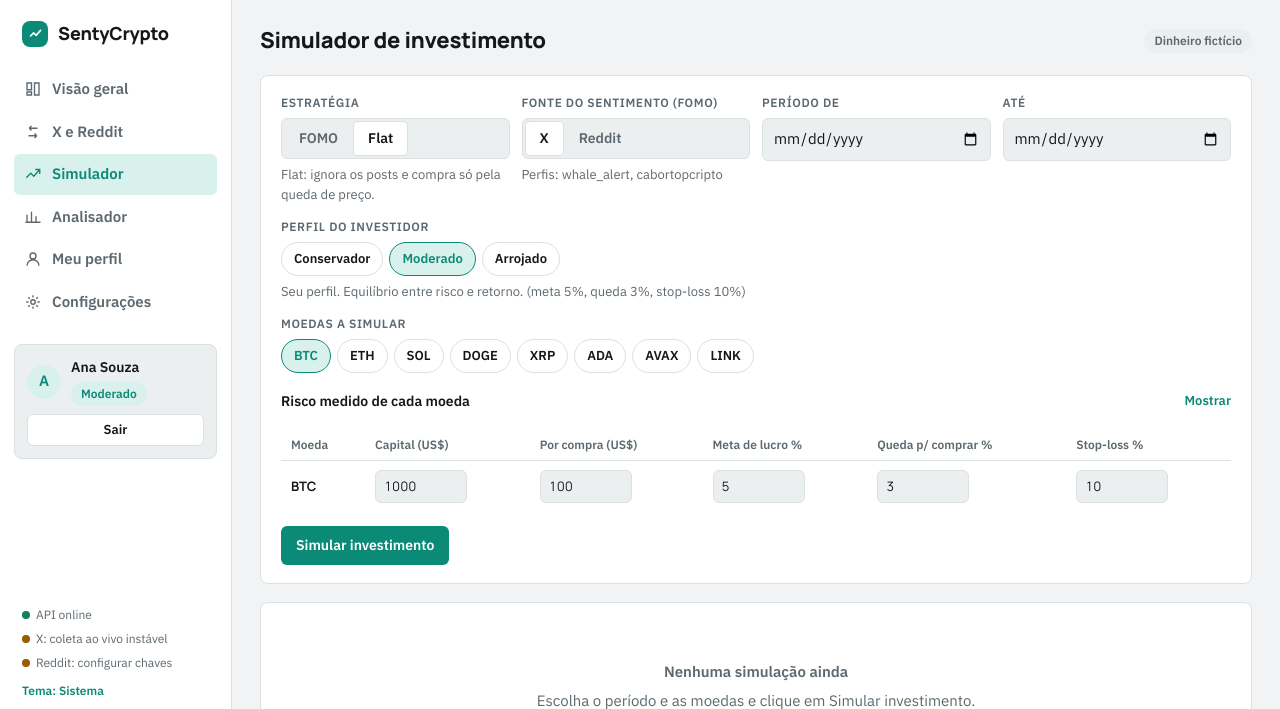
Test case: cadastro e perfil › quem é moderado só recebe aviso para moeda de risco alto
The image size is (1280, 709).
Check: the heading "Simulador de investimento" is shown, box [260, 24, 546, 57]
Click the button "DOGE". click: (480, 356)
box: [450, 339, 511, 372]
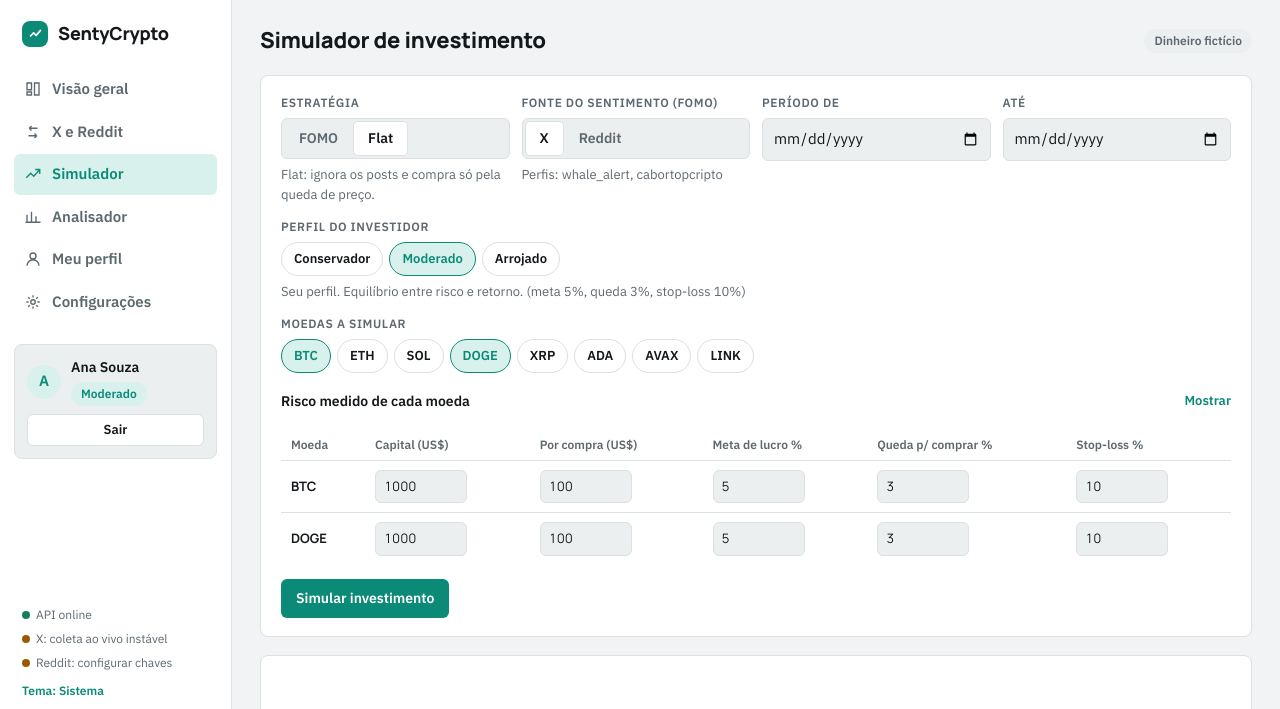
Click the button "ADA". click: (600, 356)
box: [574, 339, 626, 372]
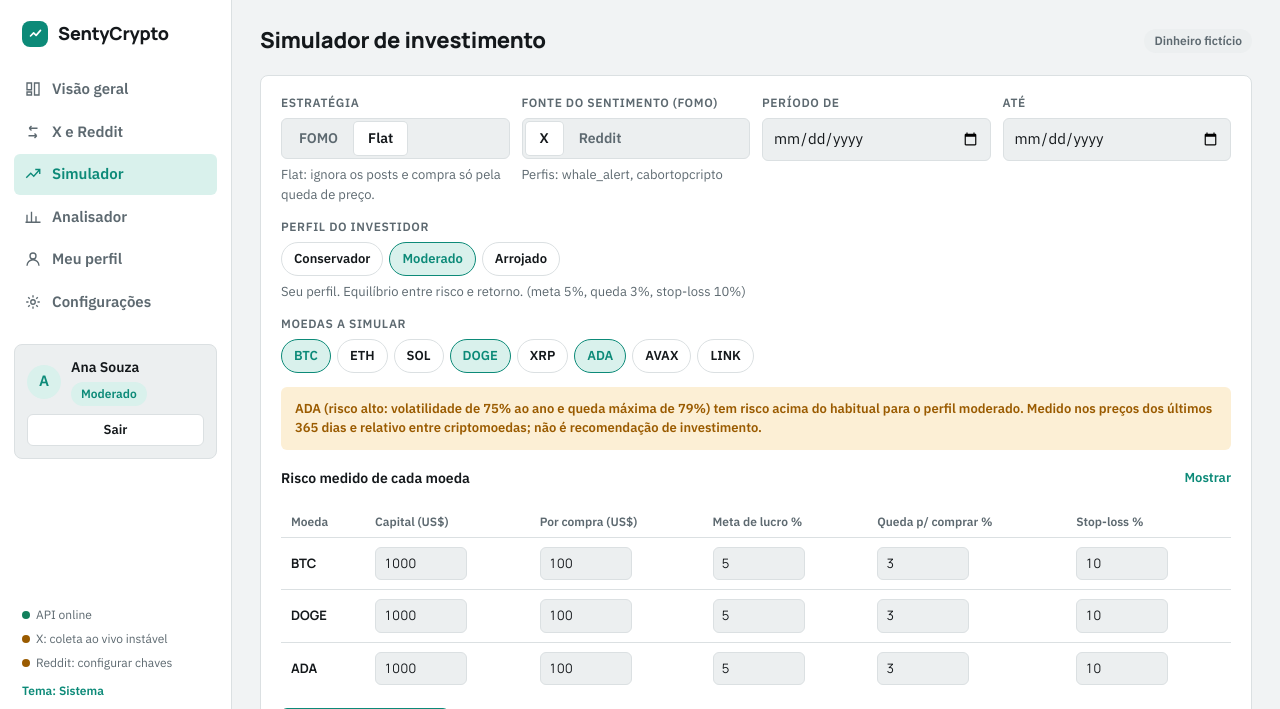
Check: the text "ADA (risco alto" is shown, box [295, 400, 1212, 436]
